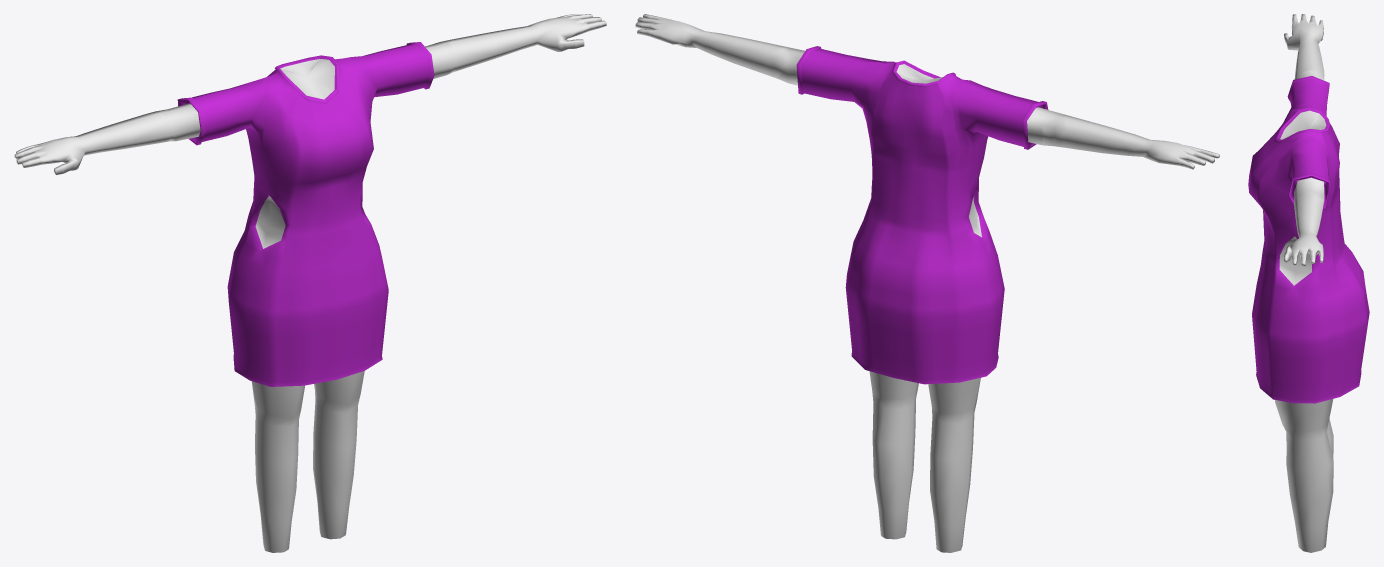
File: F_uBody_PinkSkirt.glb
The picture shows the model from 3 angles, left to right: view 1: azimuth 30°, elevation 25°; view 2: azimuth 150°, elevation 25°; view 3: azimuth 270°, elevation 25°; orthographic projection. The views are drawn at different scales.
Visible parts, largest first — view 1: F_uBody_PinkSkirt; view 2: F_uBody_PinkSkirt; view 3: F_uBody_PinkSkirt.
Part boxes in pixels (<box>): F_uBody_PinkSkirt: <box>14,14,606,552</box>; F_uBody_PinkSkirt: <box>635,14,1219,552</box>; F_uBody_PinkSkirt: <box>1248,14,1369,552</box>.
Bounding box in the file's own units: 1.83 × 1.43 × 0.377.
Materials: 2 (1 with a texture image).
